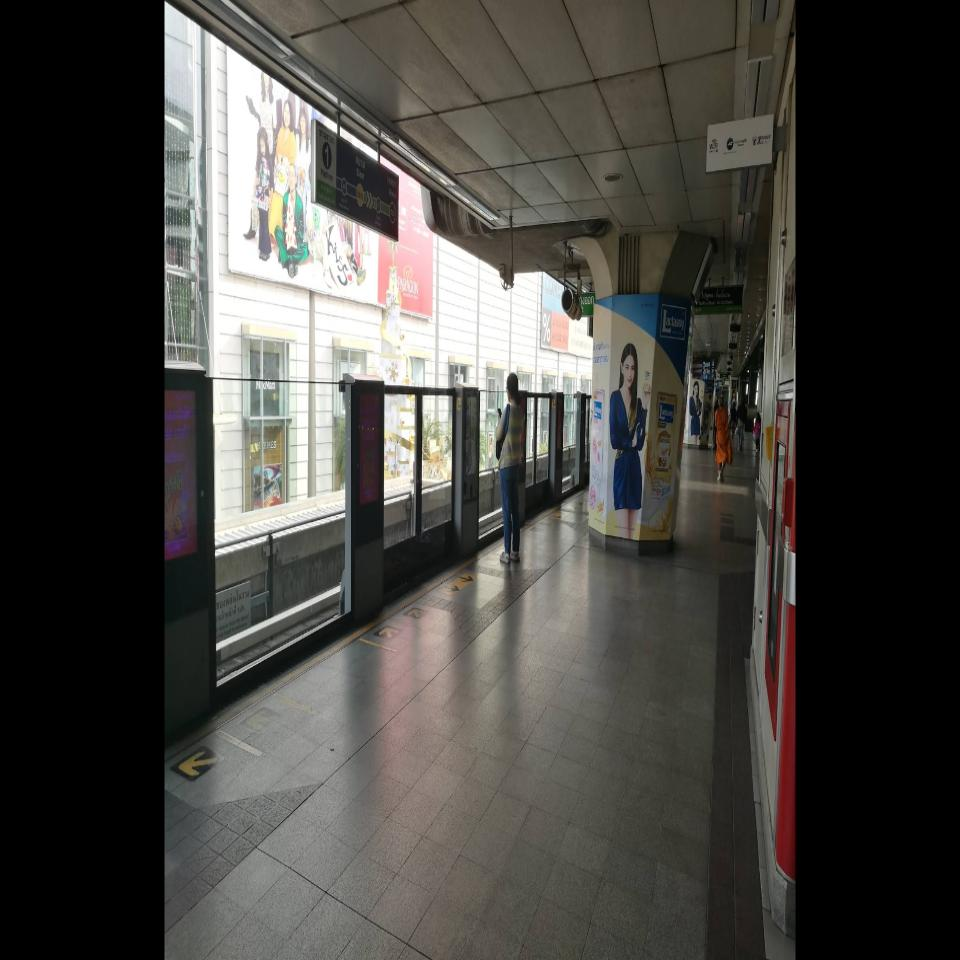signage: (341, 154, 382, 214)
